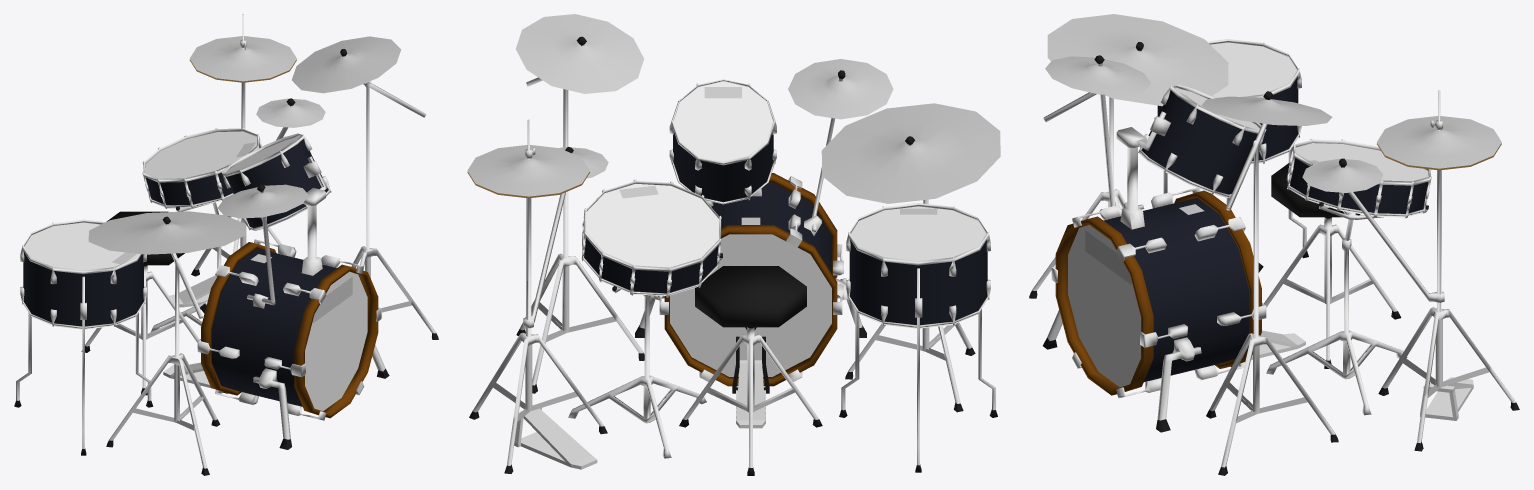
3 views of the same model, side by side, from view 1: azimuth 30°, elevation 25°; view 2: azimuth 150°, elevation 25°; view 3: azimuth 270°, elevation 25° (orthographic). The views are drawn at different scales.
Visible parts, largest first — view 1: Drum.Kick_19, Drum.FloorTom_4, DrumKit.Kick.Back_18, Drum.Ride_20, Drum.Crash_0, Drum.Tom_17, Drum.HiHat.Top_6, Drum.Snare.Head_24, Drum.FloorTom.Head_3, Drum.RideStand_21, Drum.Snare_25, Drum.Ride.Bell_10 (+7 smaller); view 2: Drum.Ride_20, Drum.FloorTom_4, Drum.Kick.Head_12, Drum.Kick_19, Drum.Snare.Head_24, Drum.Seat_22, Drum.Crash_0, Drum.HiHatStand_9, Drum.Tom.Head_16, Drum.FloorTom.Head_3, Drum.Tom_17, Drum.Ride.Bell_10 (+8 smaller); view 3: Drum.Kick_19, Drum.Ride_20, DrumKit.Kick.Back_18, Drum.Tom_17, Drum.HiHatStand_9, Drum.HiHat.Top_6, Drum.CrashStand_1, Drum.Snare_25, Drum.Seat_22, Drum.FloorTom.Head_3, Drum.Ride.Bell_10, Drum.Crash_0 (+8 smaller).
Boxes of the visible parts, left/top/right/bottom form: Drum.Kick_19: left=197, top=156, right=389, bottom=449; Drum.FloorTom_4: left=14, top=219, right=153, bottom=455; DrumKit.Kick.Back_18: left=305, top=271, right=367, bottom=411; Drum.Ride_20: left=88, top=211, right=245, bottom=254; Drum.Crash_0: left=292, top=36, right=401, bottom=93; Drum.Tom_17: left=221, top=133, right=331, bottom=230; Drum.HiHat.Top_6: left=189, top=36, right=296, bottom=81; Drum.Snare.Head_24: left=145, top=131, right=256, bottom=178; Drum.FloorTom.Head_3: left=24, top=222, right=137, bottom=270; Drum.RideStand_21: left=106, top=216, right=220, bottom=475; Drum.Snare_25: left=142, top=127, right=262, bottom=208; Drum.Ride.Bell_10: left=218, top=184, right=308, bottom=218; Drum.Ride_20: left=821, top=103, right=1000, bottom=203; Drum.FloorTom_4: left=839, top=203, right=997, bottom=472; Drum.Kick.Head_12: left=670, top=234, right=831, bottom=376; Drum.Kick_19: left=635, top=173, right=866, bottom=386; Drum.Snare.Head_24: left=586, top=183, right=719, bottom=267; Drum.Seat_22: left=679, top=266, right=822, bottom=475; Drum.Crash_0: left=516, top=14, right=643, bottom=93; Drum.HiHatStand_9: left=469, top=119, right=607, bottom=473; Drum.Tom.Head_16: left=673, top=81, right=773, bottom=161; Drum.FloorTom.Head_3: left=851, top=206, right=986, bottom=261; Drum.Tom_17: left=669, top=79, right=776, bottom=204; Drum.Ride.Bell_10: left=788, top=59, right=893, bottom=119; Drum.Kick_19: left=1043, top=111, right=1266, bottom=432; Drum.Ride_20: left=1047, top=14, right=1228, bottom=106; DrumKit.Kick.Back_18: left=1068, top=224, right=1140, bottom=387; Drum.Tom_17: left=1138, top=84, right=1266, bottom=197; Drum.HiHatStand_9: left=1378, top=90, right=1519, bottom=451; Drum.HiHat.Top_6: left=1377, top=116, right=1501, bottom=168; Drum.CrashStand_1: left=1206, top=91, right=1338, bottom=475; Drum.Snare_25: left=1286, top=139, right=1431, bottom=218; Drum.Seat_22: left=1264, top=163, right=1401, bottom=368; Drum.FloorTom.Head_3: left=1210, top=42, right=1296, bottom=97; Drum.Ride.Bell_10: left=1045, top=56, right=1151, bottom=95; Drum.Crash_0: left=1201, top=96, right=1332, bottom=125.
Bounding box in the file's own units: 1.44 × 0.99 × 1.29.
